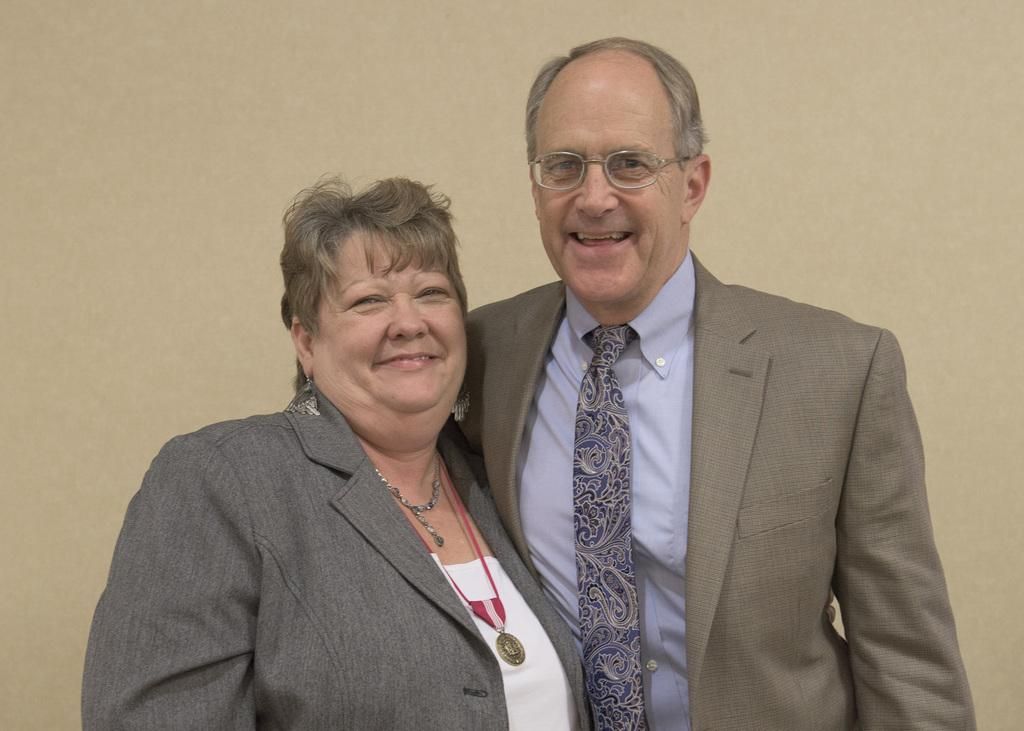Sem Máscara: (536, 69, 680, 300), (313, 231, 464, 409)
